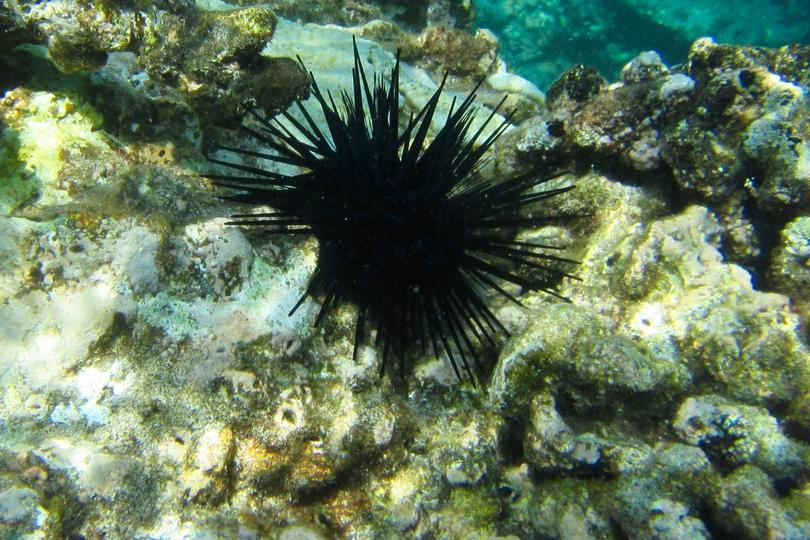urchin: (196, 37, 582, 387)
